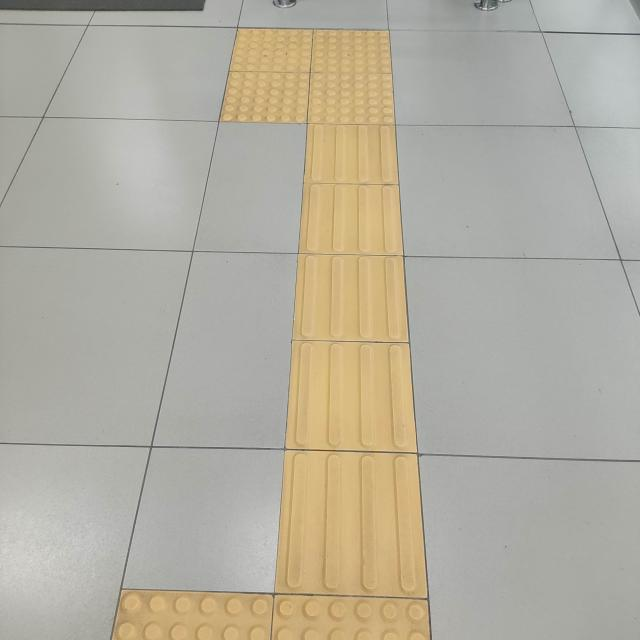lurus: (260, 120, 428, 579)
